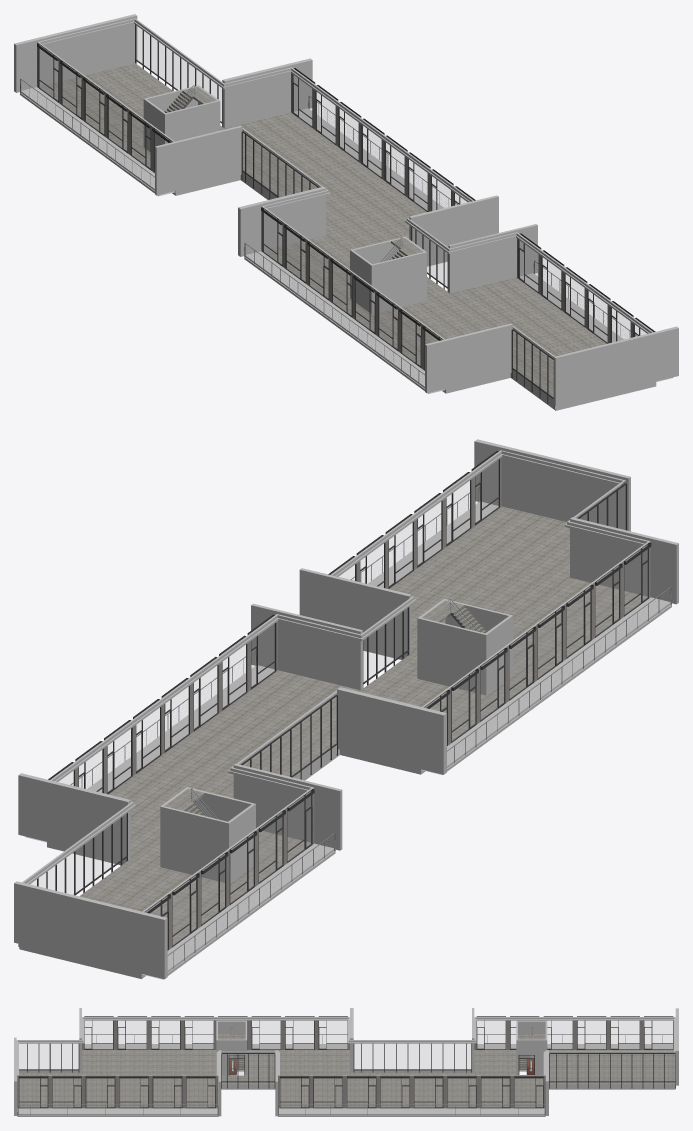
The model's file is sm_government_building_2f.FBX.
3 views of the same model, one above another, from view 1: azimuth 30°, elevation 25°; view 2: azimuth 150°, elevation 25°; view 3: azimuth 270°, elevation 25° (orthographic). The views are drawn at different scales.
Parts seen in each view (by area): view 1: sm_government_building_2f; view 2: sm_government_building_2f; view 3: sm_government_building_2f.
Boxes of the visible parts, x1,y1,x2,y2 form: sm_government_building_2f: (14,14,678,410); sm_government_building_2f: (14,439,678,979); sm_government_building_2f: (14,1008,678,1116).
Size of the model in its own units: 1992 by 613 by 7638.
